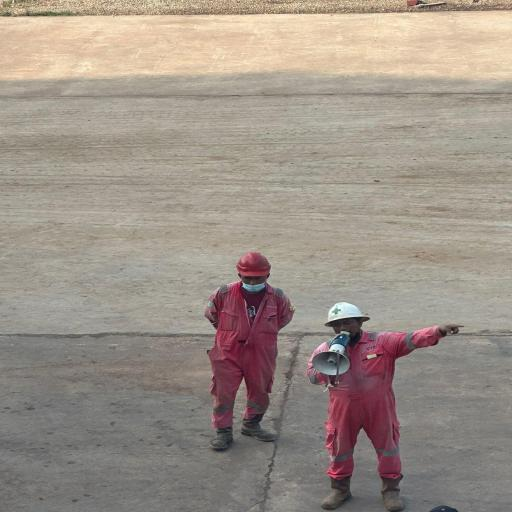safety_shoe: (318, 474, 357, 512), (376, 476, 415, 512), (240, 412, 279, 444), (205, 424, 238, 452)
